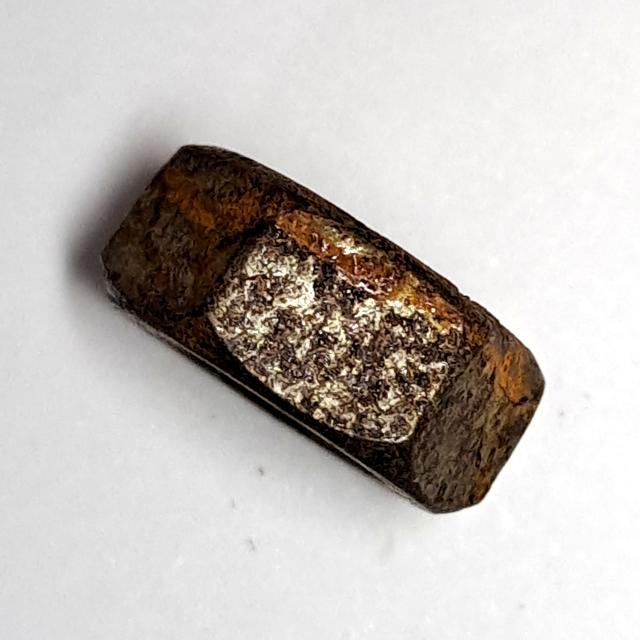Side_Rust: (87, 136, 555, 525)
